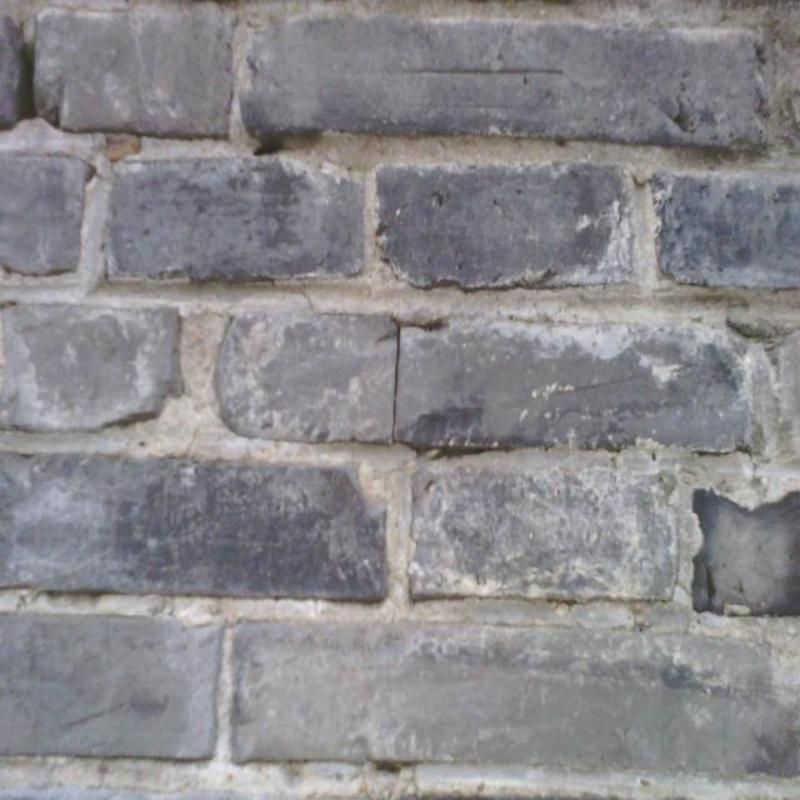pothole: (19, 46, 36, 120), (392, 326, 401, 444), (42, 108, 71, 132), (254, 139, 284, 155)
